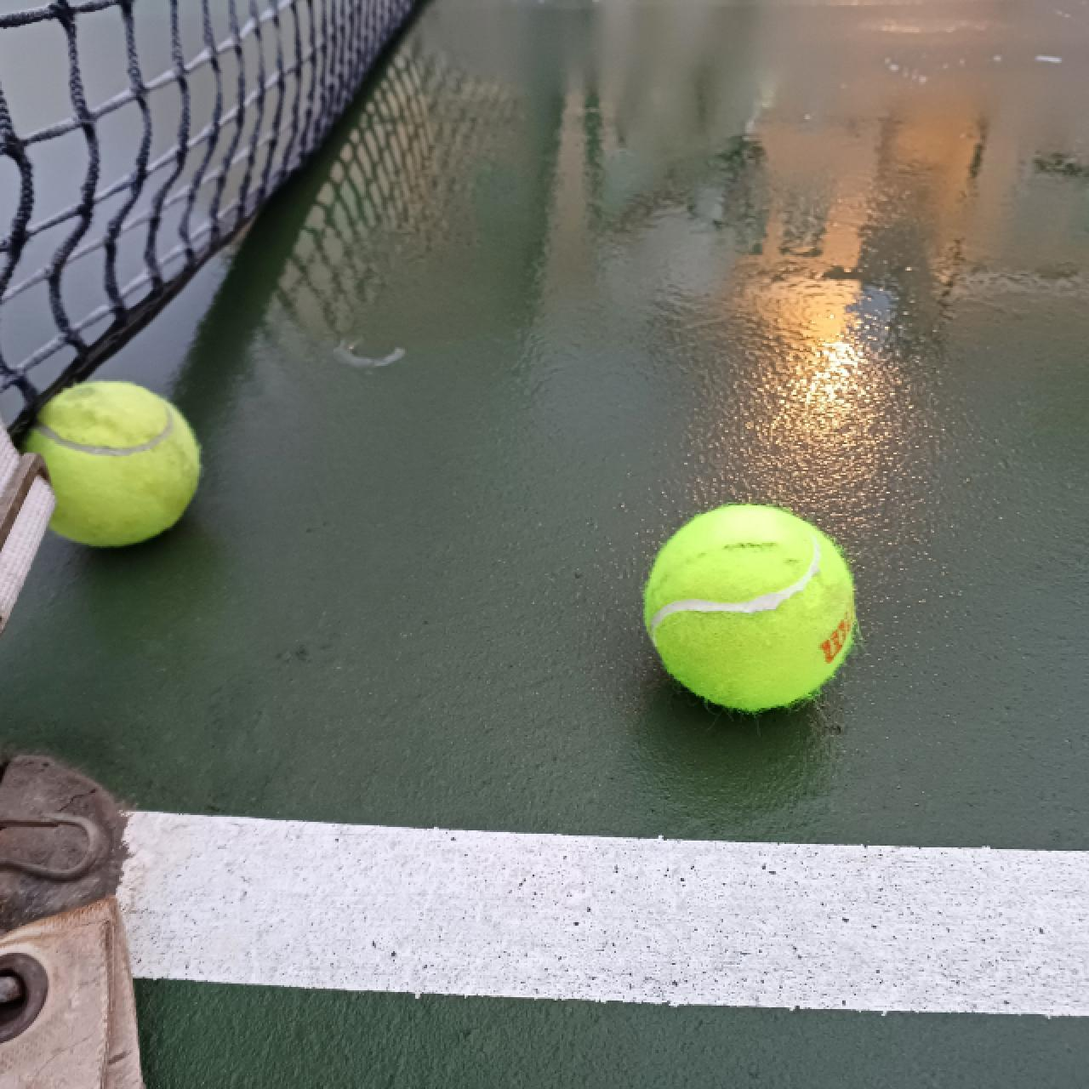tennis-ball: (640, 501, 861, 715), (20, 381, 204, 551)
